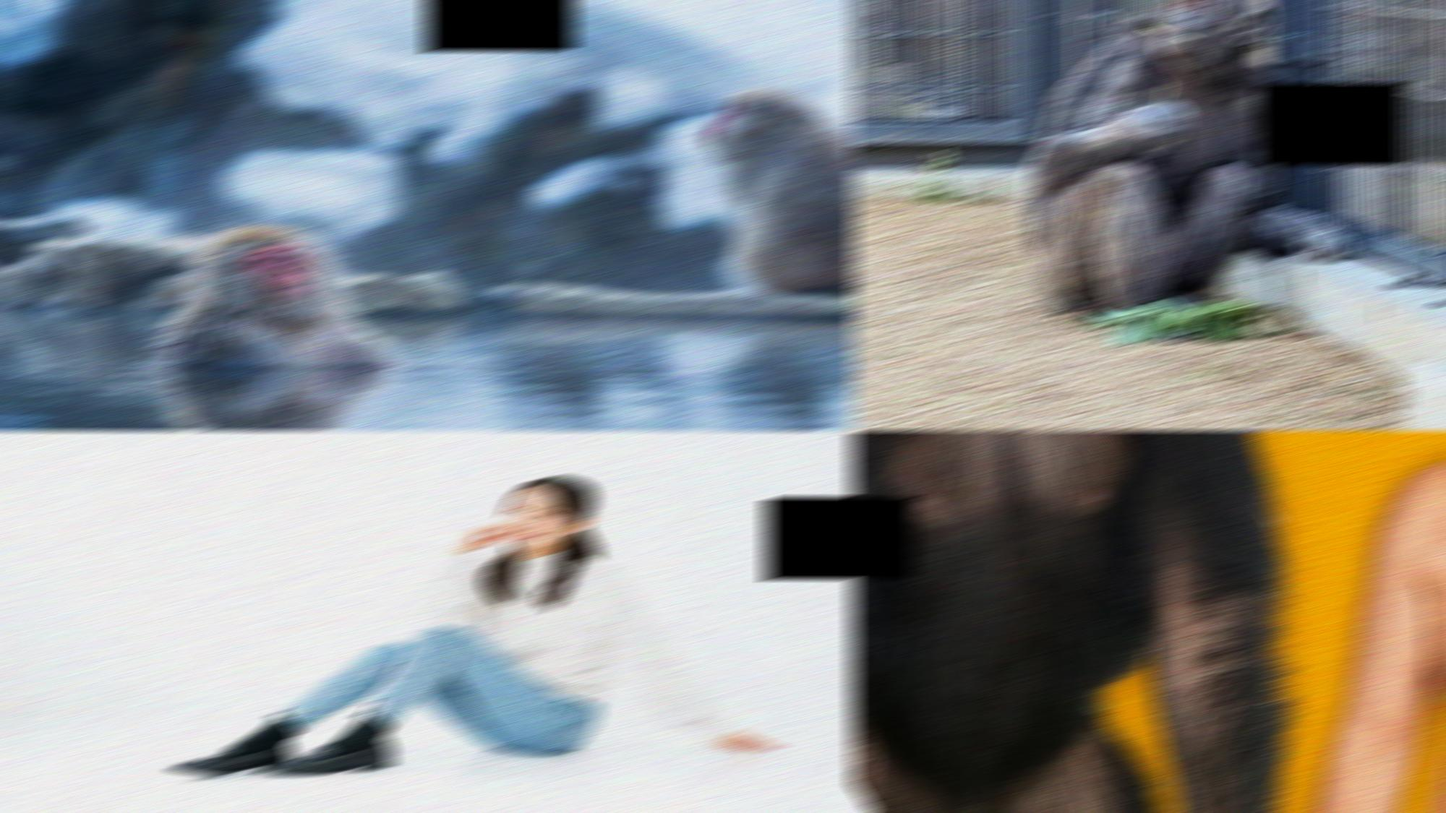Macaca fuscata: (167, 228, 406, 385), (700, 89, 857, 314)
chimpanzee: (849, 431, 1278, 812), (1024, 1, 1350, 343)
human: (157, 475, 787, 773), (1306, 431, 1446, 812)
